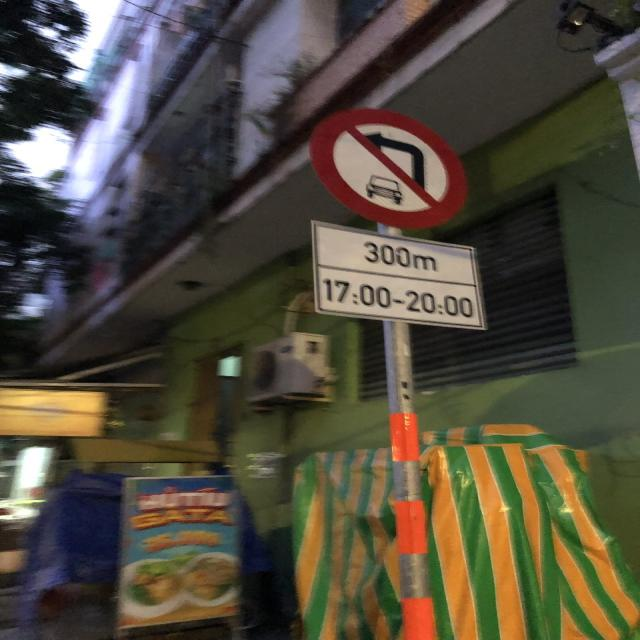Bien bao cam xe o to re trai: (303, 98, 475, 234)
